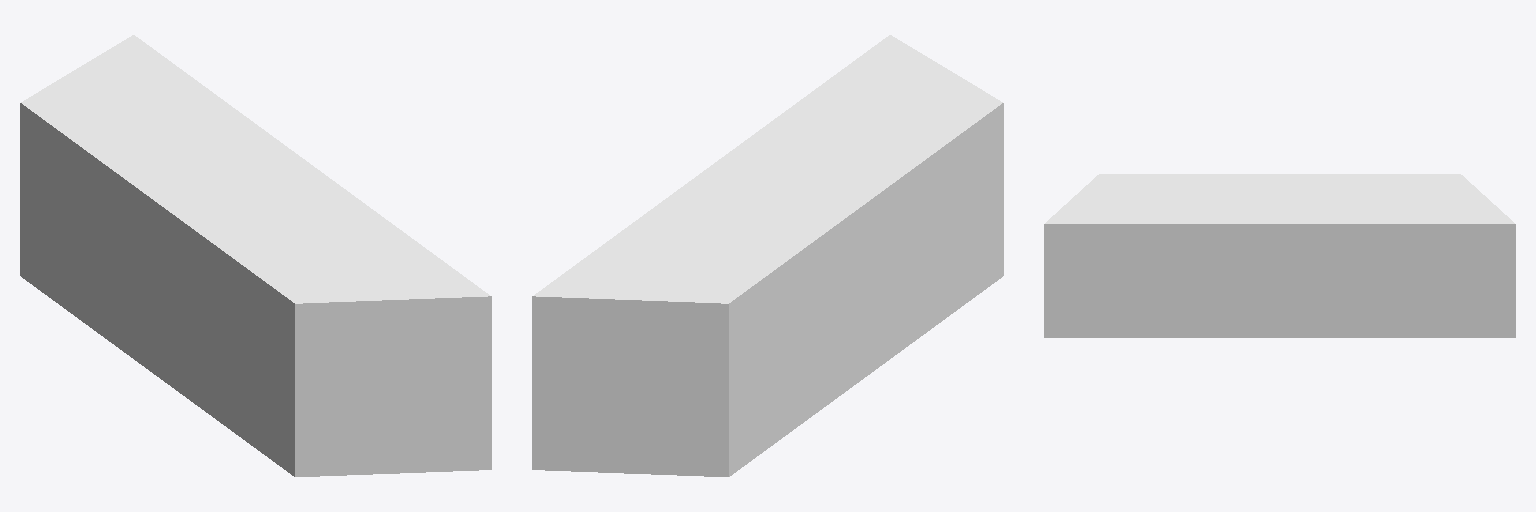
robot.urdf — AMR:
<?xml version="1.0" ?>
<robot name="AMR">
    <material name="white">
        <color rgba="1 1 1 1" />
    </material>
    <material name="grey">
        <color rgba="0.5 0.5 0.5 1" />
    </material>
    <link name="base_footprint" />
    <link name="base_link">
        <visual>
            <origin xyz="0 0 0" rpy="0 0 1.5708" />
            <geometry>
                <mesh filename="package://amr_urdf/meshes/body.stl" scale="0.001 0.001 0.001" />
            </geometry>
            <material name="grey" />
        </visual>
        <collision>
            <origin xyz="0 0 0" rpy="0 0 1.5708" />
            <geometry>
                <mesh filename="package://amr_urdf/meshes/body.stl" scale="0.001 0.001 0.001" />
            </geometry>
        </collision>
        <inertial>
            <mass value="0.1" />
            <origin xyz="0 0 0" rpy="0 0 0" />
            <inertia ixx="0.03" iyy="0.03" izz="0.03" ixy="0.0" ixz="0.0" iyz="0.0" />
        </inertial>
    </link>
    <link name="left_wheel">
        <visual>
            <origin xyz="0 0 0" rpy="0 0 1.5708" />
            <geometry>
                <mesh filename="package://amr_urdf/meshes/wheel.stl" scale="0.001 0.001 0.001" />
            </geometry>
            <material name="grey" />
        </visual>
        <collision>
            <origin xyz="0 0 0" rpy="0 0 1.5708" />
            <geometry>
                <mesh filename="package://amr_urdf/meshes/wheel.stl" scale="0.001 0.001 0.001" />
            </geometry>
        </collision>
        <inertial>
            <mass value="0.1" />
            <origin xyz="0 0 0" rpy="0 0 0" />
            <inertia ixx="0.03" iyy="0.03" izz="0.03" ixy="0.0" ixz="0.0" iyz="0.0" />
        </inertial>
    </link>
    <link name="right_wheel">
        <visual>
            <origin xyz="0 0 0" rpy="0 0 1.5708" />
            <geometry>
                <mesh filename="package://amr_urdf/meshes/wheel.stl" scale="0.001 0.001 0.001" />
            </geometry>
            <material name="grey" />
        </visual>
        <collision>
            <origin xyz="0 0 0" rpy="0 0 1.5708" />
            <geometry>
                <mesh filename="package://amr_urdf/meshes/wheel.stl" scale="0.001 0.001 0.001" />
            </geometry>
        </collision>
        <inertial>
            <mass value="0.1" />
            <origin xyz="0 0 0" rpy="0 0 0" />
            <inertia ixx="0.03" iyy="0.03" izz="0.03" ixy="0.0" ixz="0.0" iyz="0.0" />
        </inertial>
    </link>
    <link name="laser_link">
        <visual>
            <origin xyz="0 0 0" rpy="0 0 0" />
            <geometry>
                <mesh filename="package://amr_urdf/meshes/rplidar-a2.stl" scale="1 1 1" />
            </geometry>
        </visual>
        <collision>
            <origin xyz="0 0 0" rpy="0 0 0" />
            <geometry>
                <mesh filename="package://amr_urdf/meshes/rplidar-a2.stl" scale="1 1 1" />
            </geometry>
        </collision>
        <inertial>
            <mass value="0.1" />
            <origin xyz="0 0 0" rpy="0 0 0" />
            <inertia ixx="0.03" iyy="0.03" izz="0.03" ixy="0.0" ixz="0.0" iyz="0.0" />
        </inertial>
    </link>
    <link name="imu_link" />
    <link name="camera_link">
        <visual>
            <origin xyz="0 0 0" rpy="0 0 1.5708" />
            <geometry>
                <mesh filename="package://amr_urdf/meshes/depth_camera.stl" scale="0.001 0.001 0.001" />
            </geometry>
            <material name="white" />
        </visual>
        <collision>
            <origin xyz="0 0 0" rpy="0 0 1.5708" />
            <geometry>
                <mesh filename="package://amr_urdf/meshes/depth_camera.stl" scale="0.001 0.001 0.001" />
            </geometry>
        </collision>
        <inertial>
            <mass value="0.1" />
            <origin xyz="0 0 0" rpy="0 0 0" />
            <inertia ixx="0.03" iyy="0.03" izz="0.03" ixy="0.0" ixz="0.0" iyz="0.0" />
        </inertial>
    </link>
    <link name="arm_link" />
    <link name="link1">
        <visual>
            <geometry>
                <mesh filename="package://amr_urdf/meshes/base.stl" scale="1 1 1" />
            </geometry>
            <material name="orange">
                <color rgba="1 0.647 0 1" />
            </material>
            <origin rpy="0 0 0" xyz="0 0 0" />
        </visual>
        <collision>
            <geometry>
                <mesh filename="package://amr_urdf/meshes/base.stl" scale="1 1 1" />
            </geometry>
            <origin rpy="0 0 0" xyz="0 0 0" />
        </collision>
        <inertial>
            <mass value="0.1" />
            <origin xyz="0 0 0" rpy="0 0 0" />
            <inertia ixx="0.03" iyy="0.03" izz="0.03" ixy="0.0" ixz="0.0" iyz="0.0" />
        </inertial>
    </link>
    <link name="link2">
        <visual>
            <geometry>
                <mesh filename="package://amr_urdf/meshes/shoulder.stl" scale="1 1 1" />
            </geometry>
            <material name="orange">
                <color rgba="1 0.647 0 1" />
            </material>
            <origin rpy="0 0 0" xyz="0 0 -0.0505" />
        </visual>
        <collision>
            <geometry>
                <mesh filename="package://amr_urdf/meshes/shoulder.stl" scale="1 1 1" />
            </geometry>
            <origin rpy="0 0 0" xyz="0 0 -0.0505" />
        </collision>
        <inertial>
            <mass value="0.1" />
            <origin xyz="0 0 0" rpy="0 0 0" />
            <inertia ixx="0.03" iyy="0.03" izz="0.03" ixy="0.0" ixz="0.0" iyz="0.0" />
        </inertial>
    </link>
    <link name="link3">
        <visual>
            <geometry>
                <mesh filename="package://amr_urdf/meshes/elbow.stl" scale="1 1 1" />
            </geometry>
            <material name="orange">
                <color rgba="1 0.647 0 1" />
            </material>
            <origin rpy="0 0 0" xyz="0 0 -0.1705" />
        </visual>
        <collision>
            <geometry>
                <mesh filename="package://amr_urdf/meshes/elbow.stl" scale="1 1 1" />
            </geometry>
            <origin rpy="0 0 0" xyz="0 0 -0.1705" />
        </collision>
        <inertial>
            <mass value="0.1" />
            <origin xyz="0 0 0" rpy="0 0 0" />
            <inertia ixx="0.03" iyy="0.03" izz="0.03" ixy="0.0" ixz="0.0" iyz="0.0" />
        </inertial>
    </link>
    <link name="link4">
        <visual>
            <geometry>
                <mesh filename="package://amr_urdf/meshes/wrist_pitch.stl" scale="1 1 1" />
            </geometry>
            <material name="orange">
                <color rgba="1 0.647 0 1" />
            </material>
            <origin rpy="0 0 0" xyz="0 0 -0.2905" />
        </visual>
        <collision>
            <geometry>
                <mesh filename="package://amr_urdf/meshes/wrist_pitch.stl" scale="1 1 1" />
            </geometry>
            <origin rpy="0 0 0" xyz="0 0 -0.2905" />
        </collision>
        <inertial>
            <mass value="0.1" />
            <origin xyz="0 0 0" rpy="0 0 0" />
            <inertia ixx="0.03" iyy="0.03" izz="0.03" ixy="0.0" ixz="0.0" iyz="0.0" />
        </inertial>
    </link>
    <link name="link5">
        <visual>
            <geometry>
                <mesh filename="package://amr_urdf/meshes/wrist_roll.stl" scale="1 1 1" />
            </geometry>
            <material name="orange">
                <color rgba="1 0.647 0 1" />
            </material>
            <origin rpy="0 0 0" xyz="0 0 -0.3505" />
        </visual>
        <collision>
            <geometry>
                <mesh filename="package://amr_urdf/meshes/wrist_roll.stl" scale="1 1 1" />
            </geometry>
            <origin rpy="0 0 0" xyz="0 0 -0.3505" />
        </collision>
        <inertial>
            <mass value="0.1" />
            <origin xyz="0 0 0" rpy="0 0 0" />
            <inertia ixx="0.03" iyy="0.03" izz="0.03" ixy="0.0" ixz="0.0" iyz="0.0" />
        </inertial>
    </link>
    <link name="gripper_base">
        <visual>
            <geometry>
                <mesh filename="package://amr_urdf/meshes/gripper_base.stl" scale="1 1 1" />
            </geometry>
            <material name="white" />
            <origin rpy="0 0 0" xyz="0 0 -0.357" />
        </visual>
        <collision>
            <geometry>
                <mesh filename="package://amr_urdf/meshes/gripper_base.stl" scale="1 1 1" />
            </geometry>
            <origin rpy="0 0 0" xyz="0 0 -0.357" />
        </collision>
        <inertial>
            <mass value="0.1" />
            <origin xyz="0 0 0" rpy="0 0 0" />
            <inertia ixx="0.03" iyy="0.03" izz="0.03" ixy="0.0" ixz="0.0" iyz="0.0" />
        </inertial>
    </link>
    <link name="gripper_fix">
        <visual>
            <geometry>
                <mesh filename="package://amr_urdf/meshes/gripper_fix.stl" scale="1 1 1" />
            </geometry>
            <material name="white" />
            <origin rpy="0 0 0" xyz="0 0 -0.36399" />
        </visual>
        <collision>
            <geometry>
                <mesh filename="package://amr_urdf/meshes/gripper_fix.stl" scale="1 1 1" />
            </geometry>
            <origin rpy="0 0 0" xyz="0 0 -0.36399" />
        </collision>
        <inertial>
            <mass value="0.1" />
            <origin xyz="0 0 0" rpy="0 0 0" />
            <inertia ixx="0.03" iyy="0.03" izz="0.03" ixy="0.0" ixz="0.0" iyz="0.0" />
        </inertial>
    </link>
    <link name="gripper_movable">
        <visual>
            <geometry>
                <mesh filename="package://amr_urdf/meshes/gripper_movable.stl" scale="1 1 1" />
            </geometry>
            <material name="white" />
            <origin rpy="0 0 0" xyz="-0.01559 0 -0.36399" />
        </visual>
        <collision>
            <geometry>
                <mesh filename="package://amr_urdf/meshes/gripper_movable.stl" scale="1 1 1" />
            </geometry>
            <origin rpy="0 0 0" xyz="-0.01559 0 -0.36399" />
        </collision>
        <inertial>
            <mass value="0.1" />
            <origin xyz="0 0 0" rpy="0 0 0" />
            <inertia ixx="0.03" iyy="0.03" izz="0.03" ixy="0.0" ixz="0.0" iyz="0.0" />
        </inertial>
    </link>
    <joint name="base_joint" type="fixed">
        <parent link="base_footprint" />
        <child link="base_link" />
        <origin rpy="0 0 0" xyz="0 0 0.0856" />
        <axis xyz="0 0 0" />
    </joint>
    <joint name="L_wheel_joint" type="fixed">
        <parent link="base_link" />
        <child link="left_wheel" />
        <origin rpy="0 0 0" xyz="-0.0225 0.1475 -0.0242" />
        <axis xyz="0 0 0" />
    </joint>
    <joint name="R_wheel_joint" type="fixed">
        <parent link="base_link" />
        <child link="right_wheel" />
        <origin rpy="-3.14159 0 0" xyz="-0.0225 -0.1475 -0.0242" />
        <axis xyz="0 0 0" />
    </joint>
    <joint name="laser_joint" type="fixed">
        <parent link="base_link" />
        <child link="laser_link" />
        <origin rpy="0 0 0" xyz="0.2335 0 0.08" />
        <axis xyz="0 0 0" />
    </joint>
    <joint name="imu_joint" type="fixed">
        <parent link="base_link" />
        <child link="imu_link" />
        <origin rpy="0 0 0" xyz="0 0 0" />
        <axis xyz="0 0 0" />
    </joint>
    <joint name="camera_joint" type="fixed">
        <parent link="base_link" />
        <child link="camera_link" />
        <origin rpy="0 0 0" xyz="0.245 0 -0.027" />
        <axis xyz="0 0 0" />
    </joint>
    <joint name="arm_joint" type="fixed">
        <parent link="base_link" />
        <child link="arm_link" />
        <origin rpy="0 0 0" xyz="0.12375 0 0.045" />
        <axis xyz="0 0 0" />
    </joint>
    <joint name="base" type="revolute">
        <axis xyz="0 0 -1" />
        <limit effort="1000.0" lower="0.0" upper="3.141592653589793" velocity="4.0" />
        <origin rpy="0 0 0" xyz="0 0 0" />
        <parent link="arm_link" />
        <child link="link1" />
    </joint>
    <joint name="shoulder" type="revolute">
        <axis xyz="1 0 0" />
        <limit effort="1000.0" lower="0.2617993877991494" upper="2.8797932657906435" velocity="4.0" />
        <origin rpy="-1.5707963267948966 0 0" xyz="0 0 0.0505" />
        <parent link="link1" />
        <child link="link2" />
    </joint>
    <joint name="elbow" type="revolute">
        <axis xyz="1 0 0" />
        <limit effort="1000.0" lower="0" upper="3.141592653589793" velocity="4.0" />
        <origin rpy="-1.5707963267948966 0 0" xyz="0 0 0.1205" />
        <parent link="link2" />
        <child link="link3" />
    </joint>
    <joint name="wrist_pitch" type="revolute">
        <axis xyz="1 0 0" />
        <limit effort="1000.0" lower="0" upper="3.141592653589793" velocity="4.0" />
        <origin rpy="-1.5707963267948966 0 0" xyz="0 0 0.1205" />
        <parent link="link3" />
        <child link="link4" />
    </joint>
    <joint name="wrist_roll" type="revolute">
        <axis xyz="0 0 -1" />
        <limit effort="1000.0" lower="0.0" upper="3.141592653589793" velocity="4.0" />
        <origin rpy="0 0 0" xyz="0 0.0 0.06" />
        <parent link="link4" />
        <child link="link5" />
    </joint>
    <joint name="gripper_base" type="fixed">
        <origin rpy="0 0 0" xyz="0 0.0 0.0065" />
        <parent link="link5" />
        <child link="gripper_base" />
    </joint>
    <joint name="gripper_fix" type="fixed">
        <origin rpy="0 0 0" xyz="0 0.0 0.007" />
        <parent link="gripper_base" />
        <child link="gripper_fix" />
    </joint>
    <joint name="gripper_movable" type="revolute">
        <axis xyz="0 -1 0" />
        <limit effort="1000.0" lower="0.17453292519943295" upper="1.2740903539558606" velocity="4.0" />
        <origin rpy="0 0 0" xyz="0.01559 0 0.007" />
        <parent link="gripper_base" />
        <child link="gripper_movable" />
    </joint>
    <transmission name="trans_base">
        <type>transmission_interface/SimpleTransmission</type>
        <joint name="base">
            <hardwareInterface>hardware_interface/EffortJointInterface</hardwareInterface>
        </joint>
        <actuator name="base_motor">
            <hardwareInterface>hardware_interface/EffortJointInterface</hardwareInterface>
            <mechanicalReduction>1</mechanicalReduction>
        </actuator>
    </transmission>
    <transmission name="trans_shoulder">
        <type>transmission_interface/SimpleTransmission</type>
        <joint name="shoulder">
            <hardwareInterface>hardware_interface/EffortJointInterface</hardwareInterface>
        </joint>
        <actuator name="shoulder_motor">
            <hardwareInterface>hardware_interface/EffortJointInterface</hardwareInterface>
            <mechanicalReduction>1</mechanicalReduction>
        </actuator>
    </transmission>
    <transmission name="trans_elbow">
        <type>transmission_interface/SimpleTransmission</type>
        <joint name="elbow">
            <hardwareInterface>hardware_interface/EffortJointInterface</hardwareInterface>
        </joint>
        <actuator name="elbow_motor">
            <hardwareInterface>hardware_interface/EffortJointInterface</hardwareInterface>
            <mechanicalReduction>1</mechanicalReduction>
        </actuator>
    </transmission>
    <transmission name="trans_wrist_pitch">
        <type>transmission_interface/SimpleTransmission</type>
        <joint name="wrist_pitch">
            <hardwareInterface>hardware_interface/EffortJointInterface</hardwareInterface>
        </joint>
        <actuator name="wrist_pitch_motor">
            <hardwareInterface>hardware_interface/EffortJointInterface</hardwareInterface>
            <mechanicalReduction>1</mechanicalReduction>
        </actuator>
    </transmission>
    <transmission name="trans_wrist_roll">
        <type>transmission_interface/SimpleTransmission</type>
        <joint name="wrist_roll">
            <hardwareInterface>hardware_interface/EffortJointInterface</hardwareInterface>
        </joint>
        <actuator name="wrist_roll_motor">
            <hardwareInterface>hardware_interface/EffortJointInterface</hardwareInterface>
            <mechanicalReduction>1</mechanicalReduction>
        </actuator>
    </transmission>
    <transmission name="trans_gripper_movable">
        <type>transmission_interface/SimpleTransmission</type>
        <joint name="gripper_movable">
            <hardwareInterface>hardware_interface/EffortJointInterface</hardwareInterface>
        </joint>
        <actuator name="gripper_movable_motor">
            <hardwareInterface>hardware_interface/EffortJointInterface</hardwareInterface>
            <mechanicalReduction>1</mechanicalReduction>
        </actuator>
    </transmission>
    <gazebo>
        <plugin name="gazebo_ros_control" filename="libgazebo_ros_control.so">
            <robotNamespace>/</robotNamespace>
        </plugin>
    </gazebo>
</robot>

--- Facts derived from the render (not from the file) ---
Views: 3 orthographic renders of the robot side by side, from view 1: azimuth 30°, elevation 25°; view 2: azimuth 150°, elevation 25°; view 3: azimuth 270°, elevation 25°.
Model AMR with 16 links and 15 joints (6 revolute, 9 fixed), rooted at base_footprint, posed joints at zero except 2 at the middle of their limits (shoulder = 1.57, gripper_movable = 0.7243).
Visible links, largest first — view 1: camera_link; view 2: camera_link; view 3: camera_link.
Link boxes in pixels (<box>): camera_link: <box>20,35,491,476</box>; camera_link: <box>532,35,1003,476</box>; camera_link: <box>1044,174,1515,337</box>.
Bounding box of the posed robot: 0.07 × 0.28 × 0.075 m (x, y, z).
Meshes: 12 distinct files referenced, 1 mesh visuals loaded (1 binary STL); not drawn: 12 (reference not matched to a file when rendering).